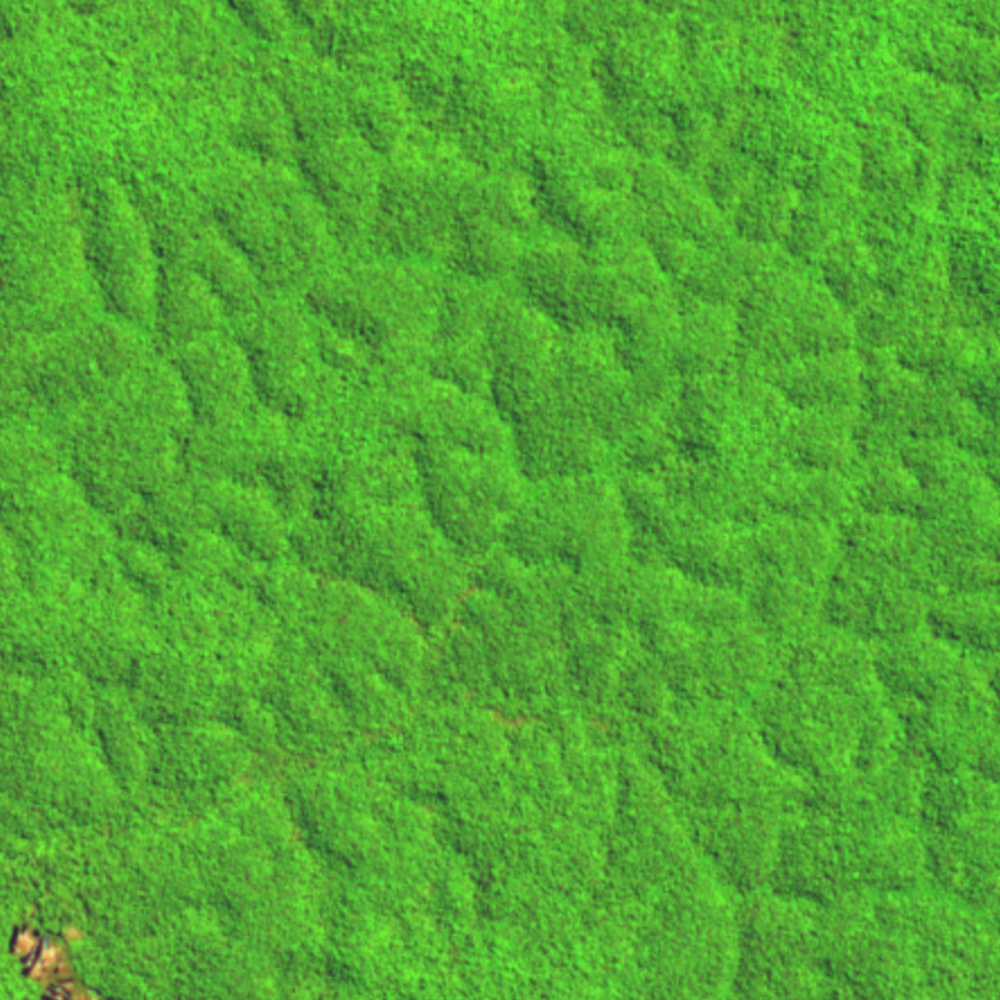illegal: (6, 898, 119, 1000)
